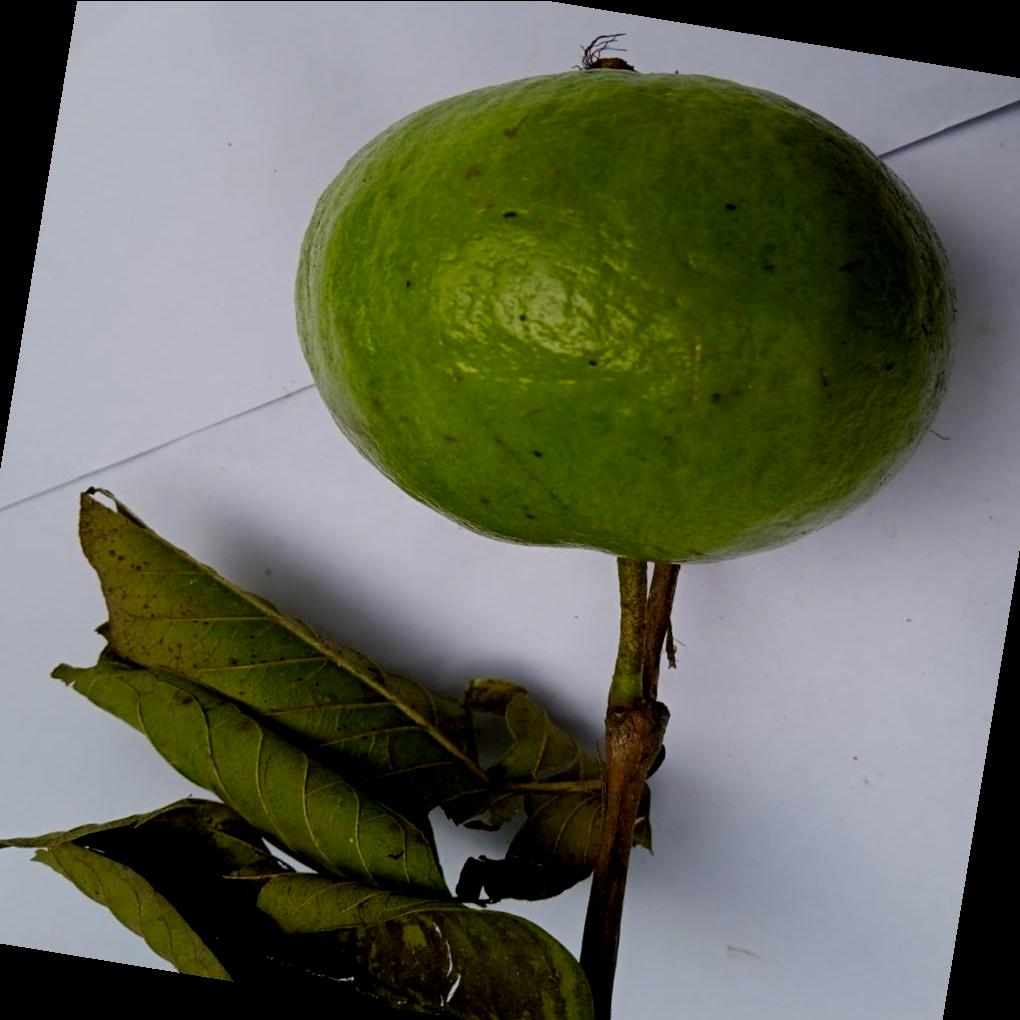FreshGuava: (296, 59, 959, 565)
